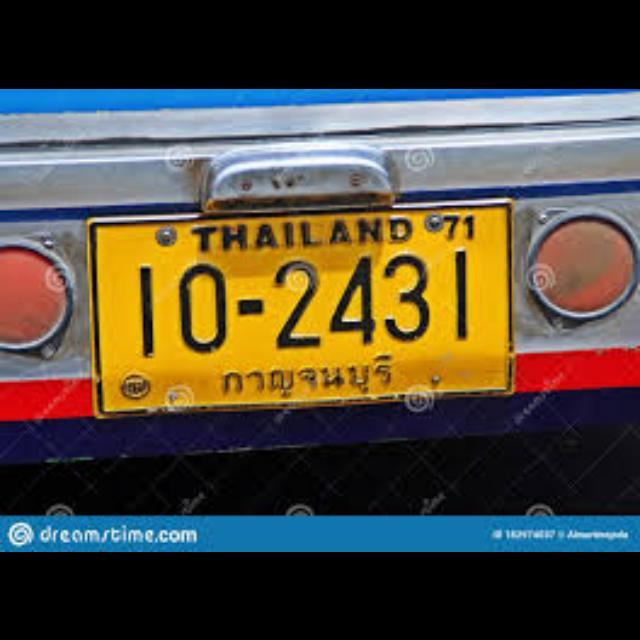licenseplate: (86, 199, 520, 417)
